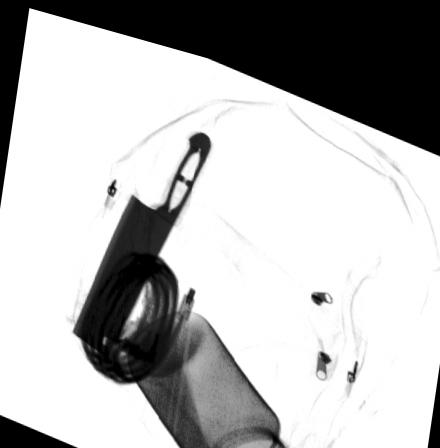Knife: (70, 119, 211, 355)
